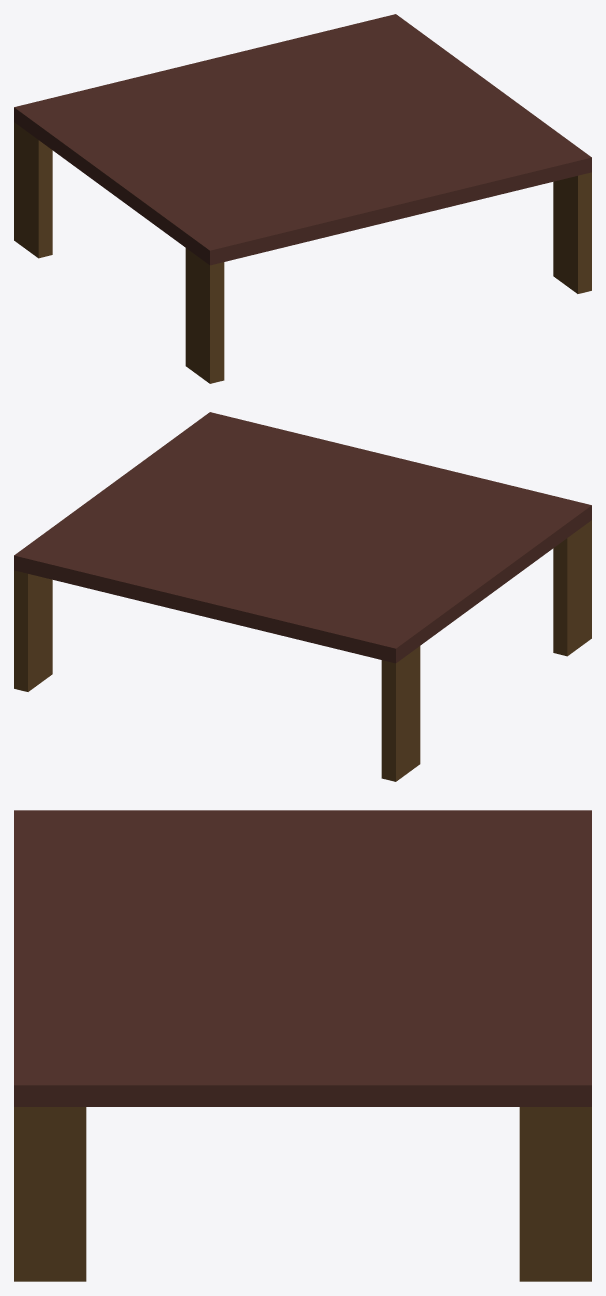
Rendered from Table.fbx.
3 views of the same model, one above another, from view 1: azimuth 30°, elevation 25°; view 2: azimuth 150°, elevation 25°; view 3: azimuth 270°, elevation 25° (orthographic). The views are drawn at different scales.
Visible parts, largest first — view 1: dining-table; view 2: dining-table; view 3: dining-table.
Part boxes in pixels (x1,y1,x2,y2): dining-table: (14,14,591,383); dining-table: (14,412,591,781); dining-table: (14,810,591,1281).
Bounding box in the file's own units: 2.7 × 0.9 × 2.4.
1 material, 1 textured.
